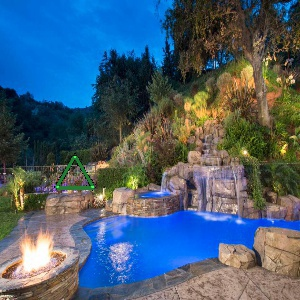triangle: (53, 153, 98, 191)
